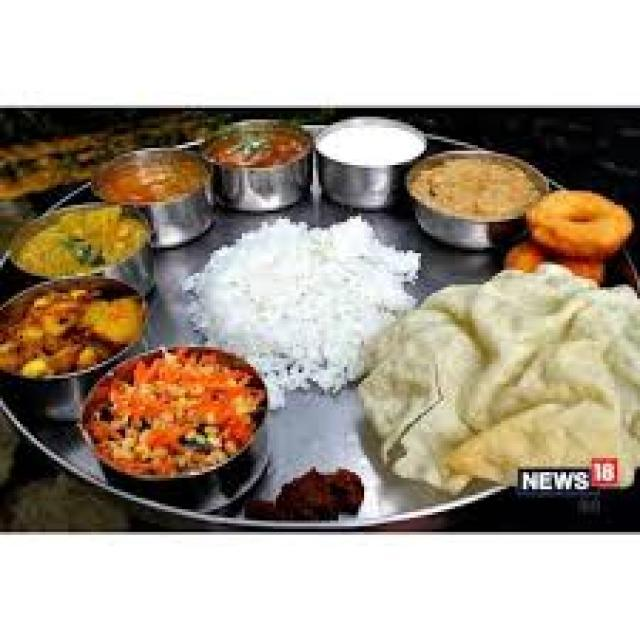curd: (317, 119, 426, 175)
dal: (403, 143, 554, 235), (10, 200, 153, 286), (207, 121, 313, 179)
papad: (382, 268, 640, 477)
rice: (214, 215, 387, 385)
roti: (5, 112, 216, 218)
veg-fry: (81, 333, 263, 492), (0, 271, 150, 397), (408, 143, 550, 235)
